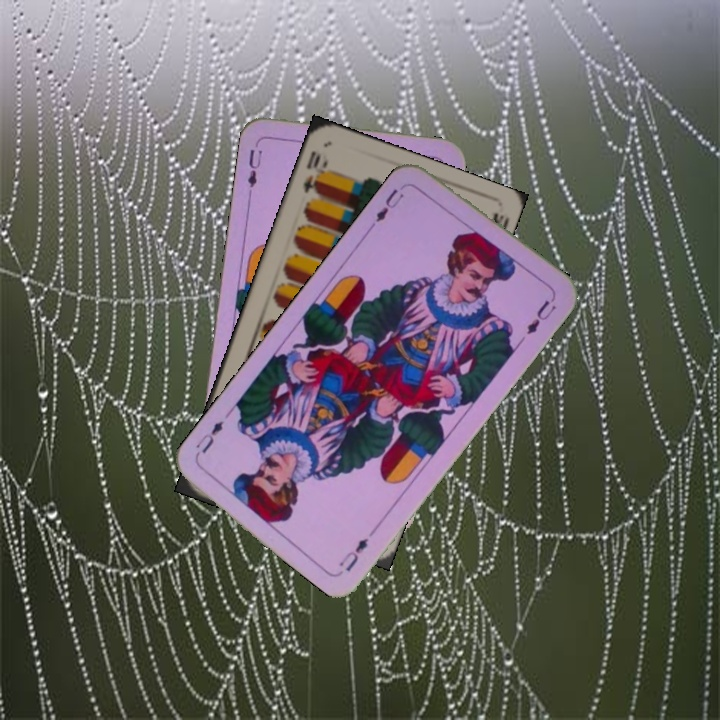E10: (299, 147, 331, 197)
EU: (372, 180, 409, 225), (334, 534, 371, 575), (243, 137, 265, 196)
